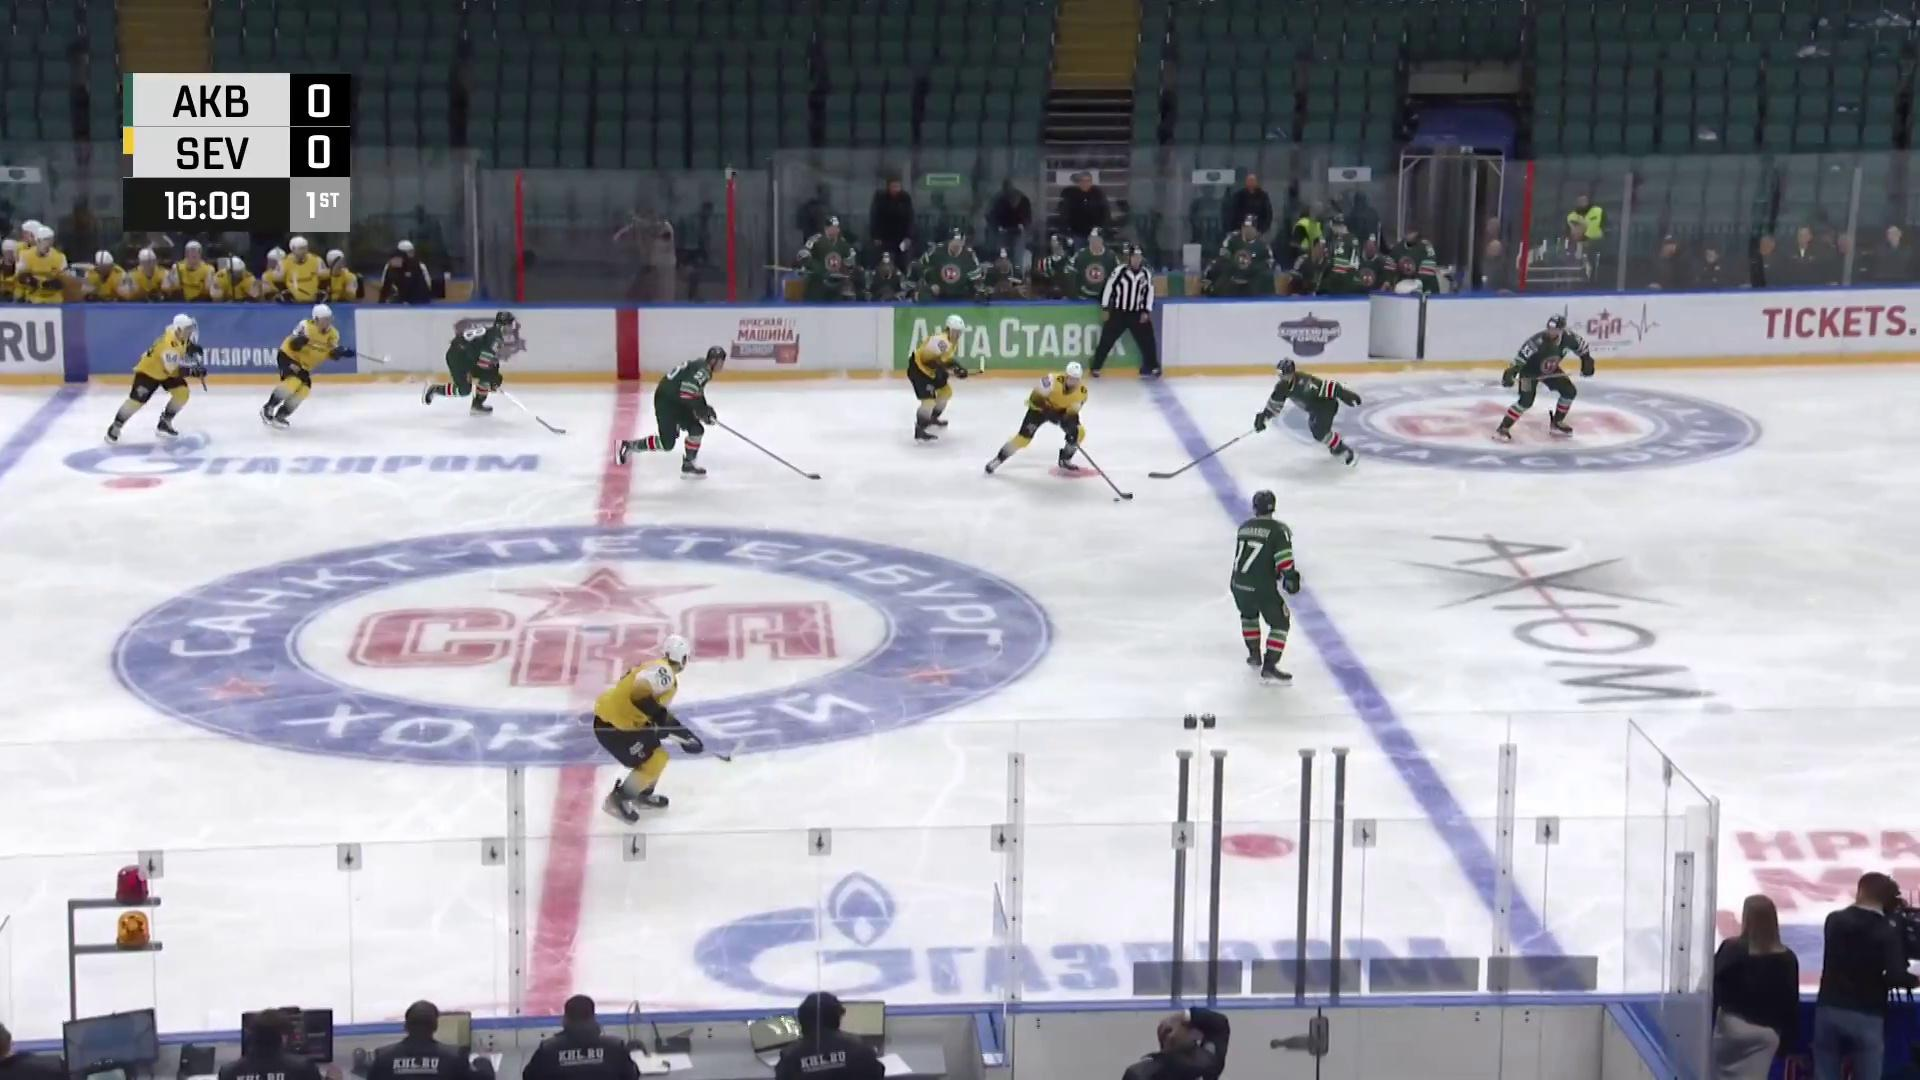ball: (1112, 497, 1121, 503)
